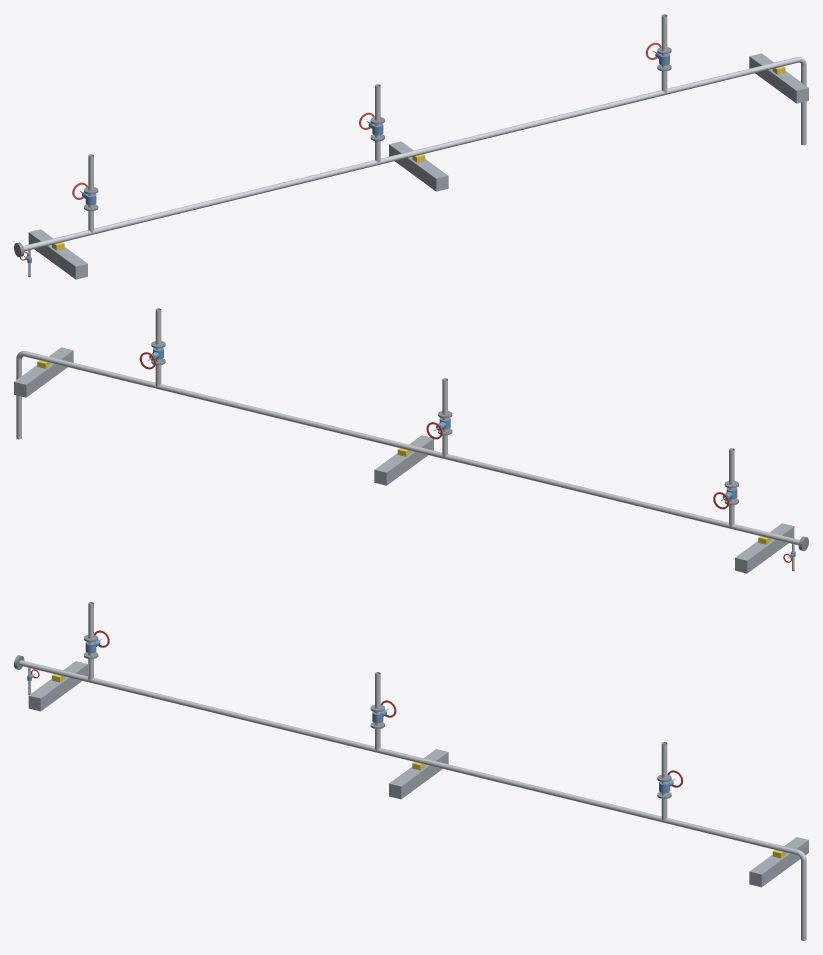
Rendered from IA-00001-view.glb.
3 views of the same model, one above another, from view 1: azimuth 30°, elevation 25°; view 2: azimuth 150°, elevation 25°; view 3: azimuth 330°, elevation 25° (orthographic).
Parts seen in each view (by area): view 1: pipe, steel, flange; view 2: pipe, steel, flange; view 3: pipe, steel, flange.
Part boxes in pixels (left/top/right/bottom): pipe: left=23, top=14, right=806, bottom=275; steel: left=24, top=51, right=808, bottom=279; flange: left=14, top=47, right=671, bottom=277; pipe: left=16, top=308, right=799, bottom=569; steel: left=14, top=347, right=794, bottom=573; flange: left=151, top=341, right=808, bottom=571; pipe: left=19, top=602, right=806, bottom=940; steel: left=28, top=638, right=808, bottom=887; flange: left=14, top=635, right=671, bottom=798.
Bounding box in the file's own units: 9.63 × 1.9 × 1.
